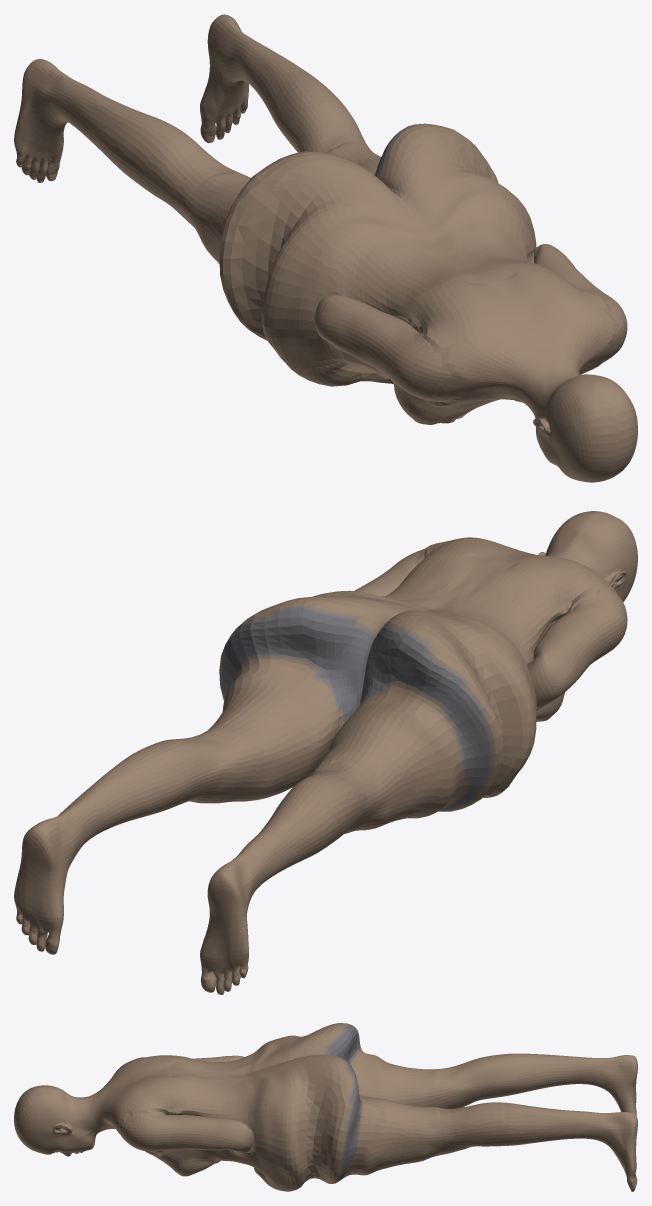
3 views of the same model, one above another, from view 1: azimuth 30°, elevation 25°; view 2: azimuth 150°, elevation 25°; view 3: azimuth 270°, elevation 25° (orthographic). The views are drawn at different scales.
Visible parts, largest first — view 1: geometry_0; view 2: geometry_0; view 3: geometry_0.
Part boxes in pixels (x1,y1,x2,y2): geometry_0: (14,14,637,482); geometry_0: (14,511,637,994); geometry_0: (14,1023,637,1191).
Bounding box in the file's own units: 0.5644 × 0.3891 × 1.71.
